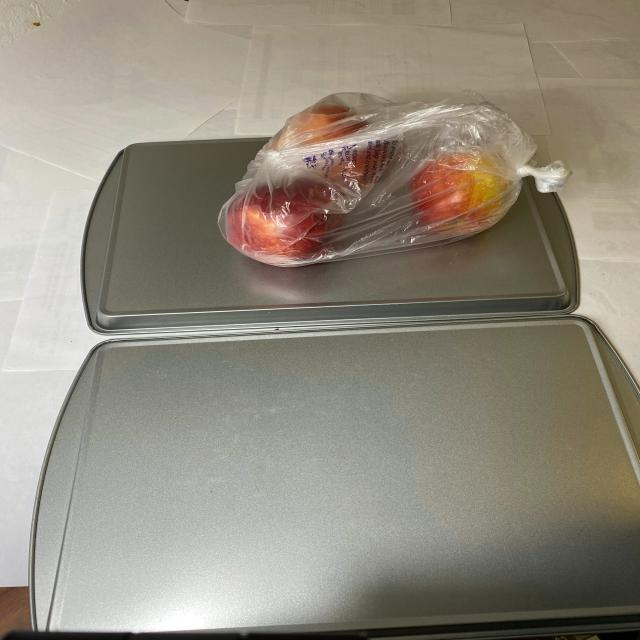apple: (220, 103, 536, 271)
